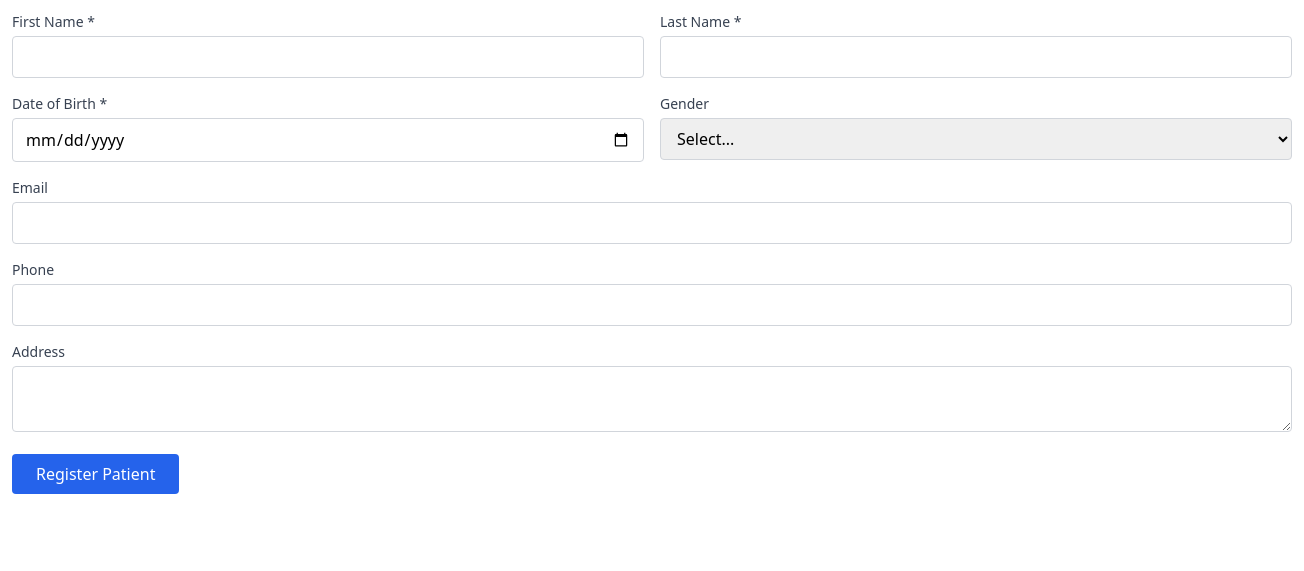
Test: PatientRegistrationForm › shows email validation error for invalid email
Type "not-an-email" into the field labelled "Email" at (652, 223), box [12, 202, 1292, 244]
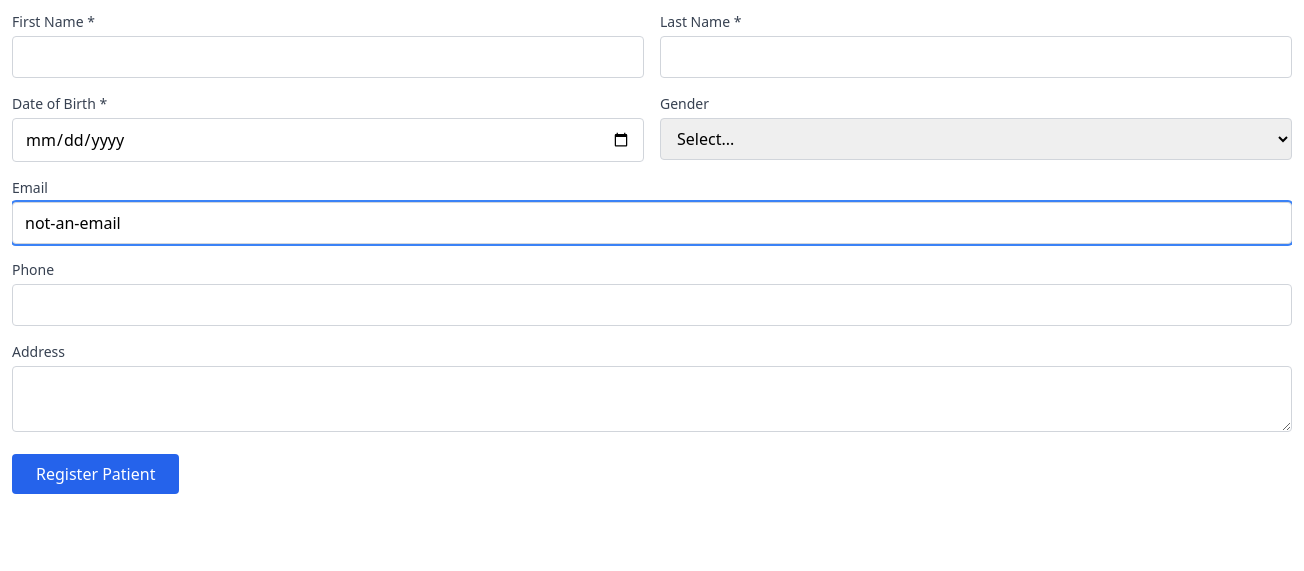
Click the button "Register Patient" at (96, 474), box [12, 454, 179, 494]
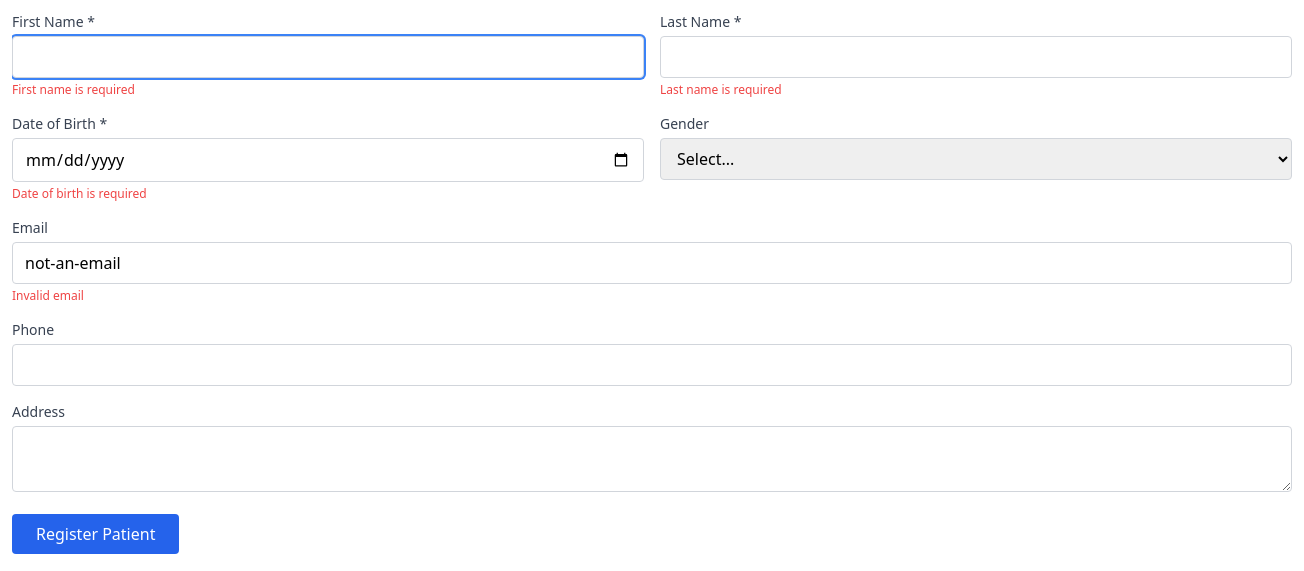
Result: the text "Invalid email" is shown at [12, 287, 84, 304]
